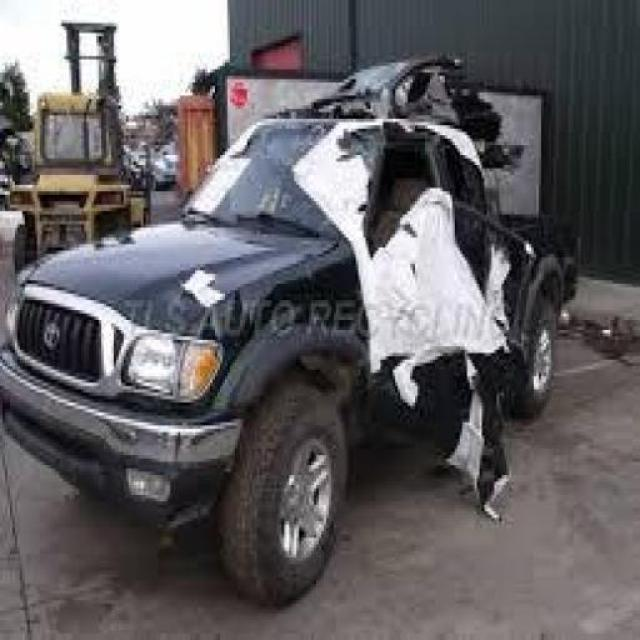crush: (297, 54, 538, 533)
